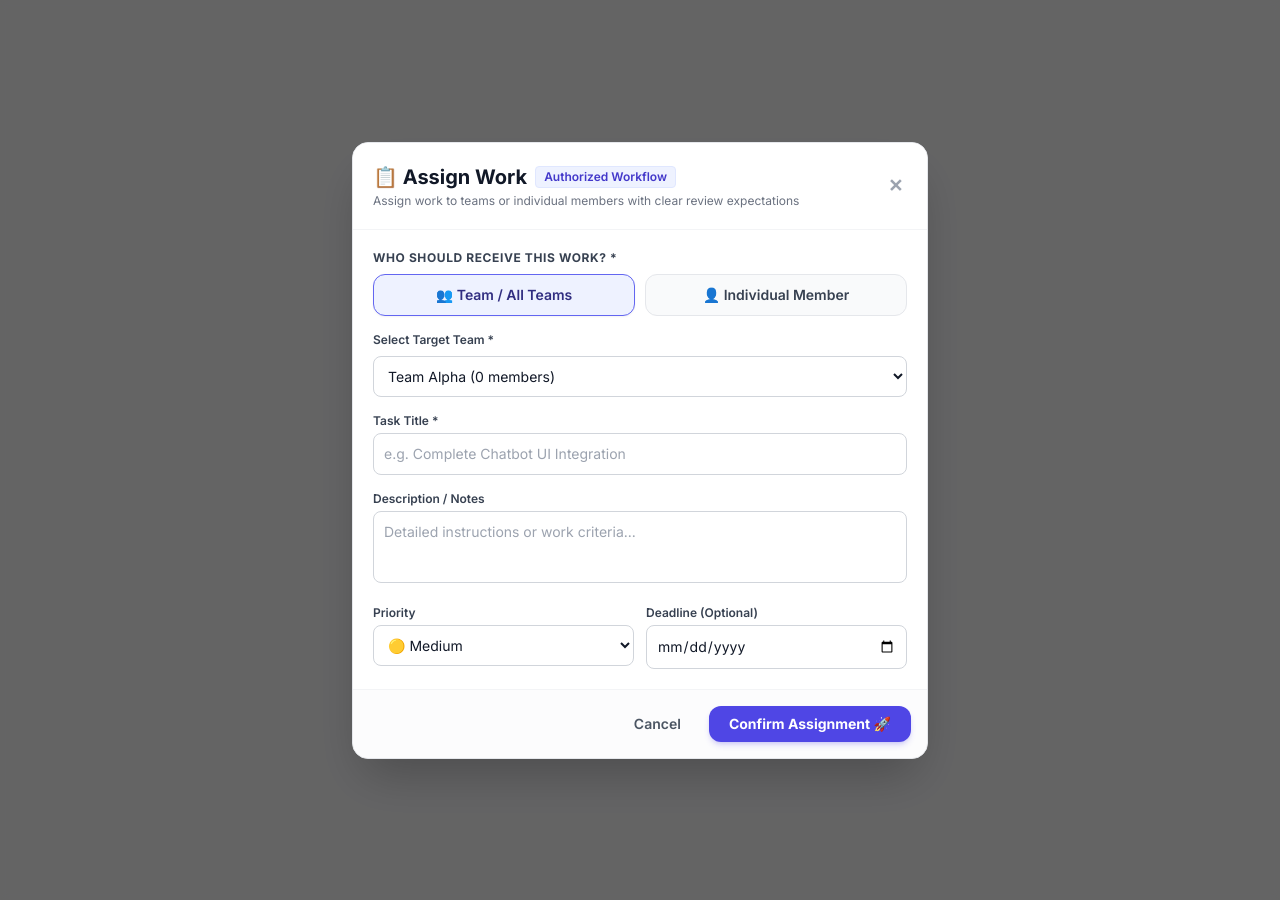
Scenario: AssignWorkModal Component › performs live member search when typing in individual mode
This screenshot has width=1280, height=900.
Click the button "👤 Individual Member" at (776, 294), box [645, 274, 907, 316]
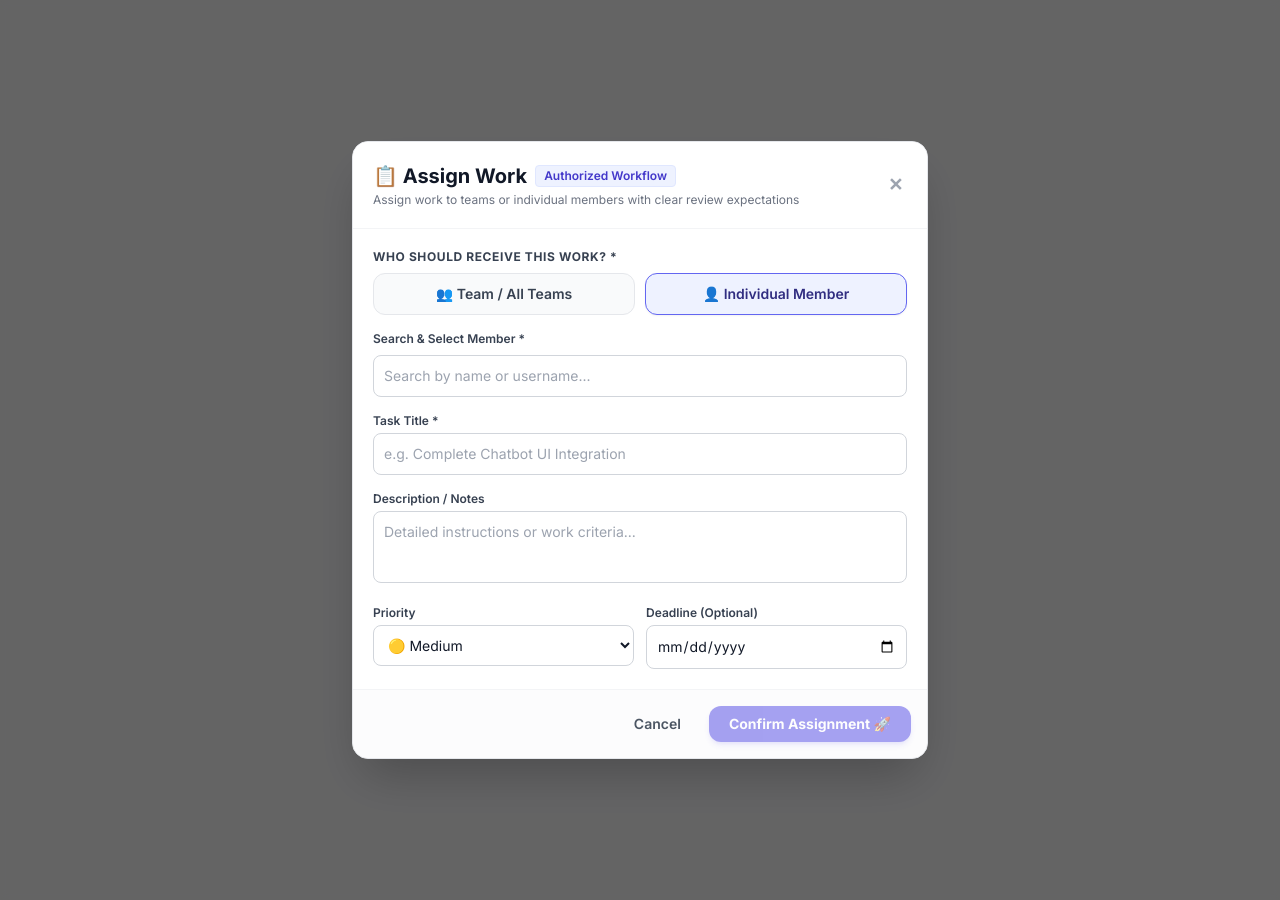
Type "Raju" into the field with placeholder "Search by name or username..." at (640, 376), box [373, 355, 907, 397]
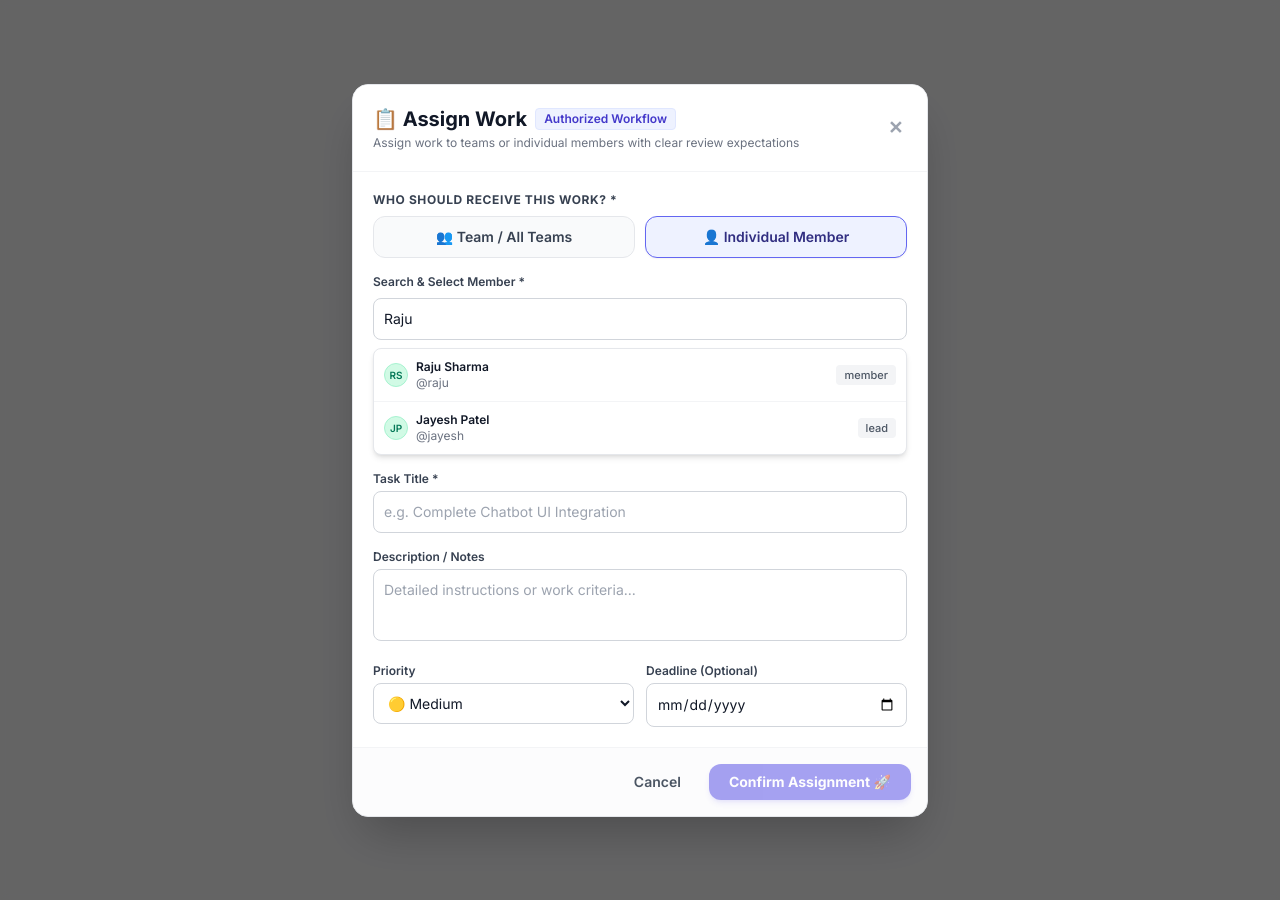
Check: the text "Raju Sharma" is shown, box [416, 358, 489, 374]
